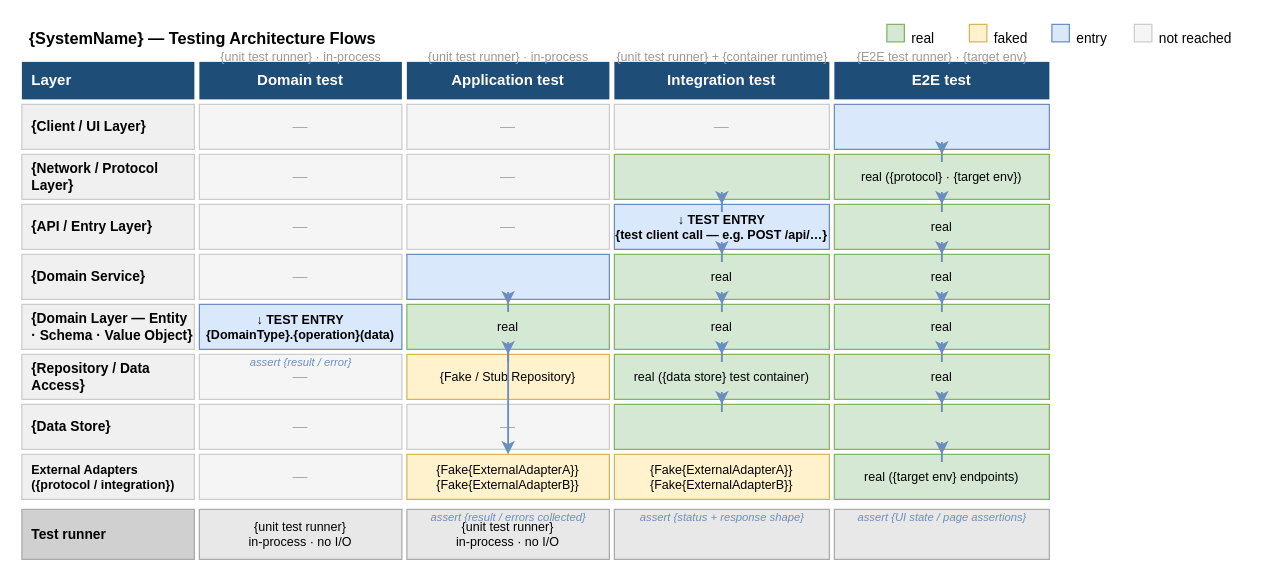
This 1274x581 diagram has some shape labels left out. The box of each missing label's shape, as (x1, y1, x2, y2) in pixels:
real (test container): (613, 403, 829, 449)
real ({in-process test client}): (613, 153, 829, 199)
real ({target env}): (833, 403, 1049, 449)
{E2E test runner} {target env} deploy required: (833, 508, 1049, 559)
{unit test runner} + {container runtime} {data store} container required: (613, 508, 829, 559)
↓ TEST ENTRY {E2E runner} drives real {client}: (833, 103, 1049, 149)
↓ TEST ENTRY {service.{operation}(input)}: (406, 253, 609, 299)
